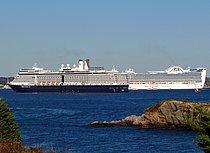Ship: (7, 55, 134, 97)
